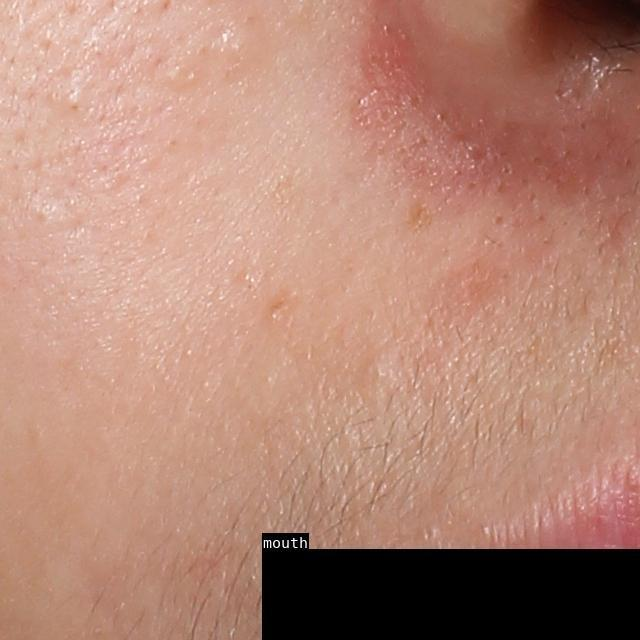comedo: (59, 86, 84, 112)
